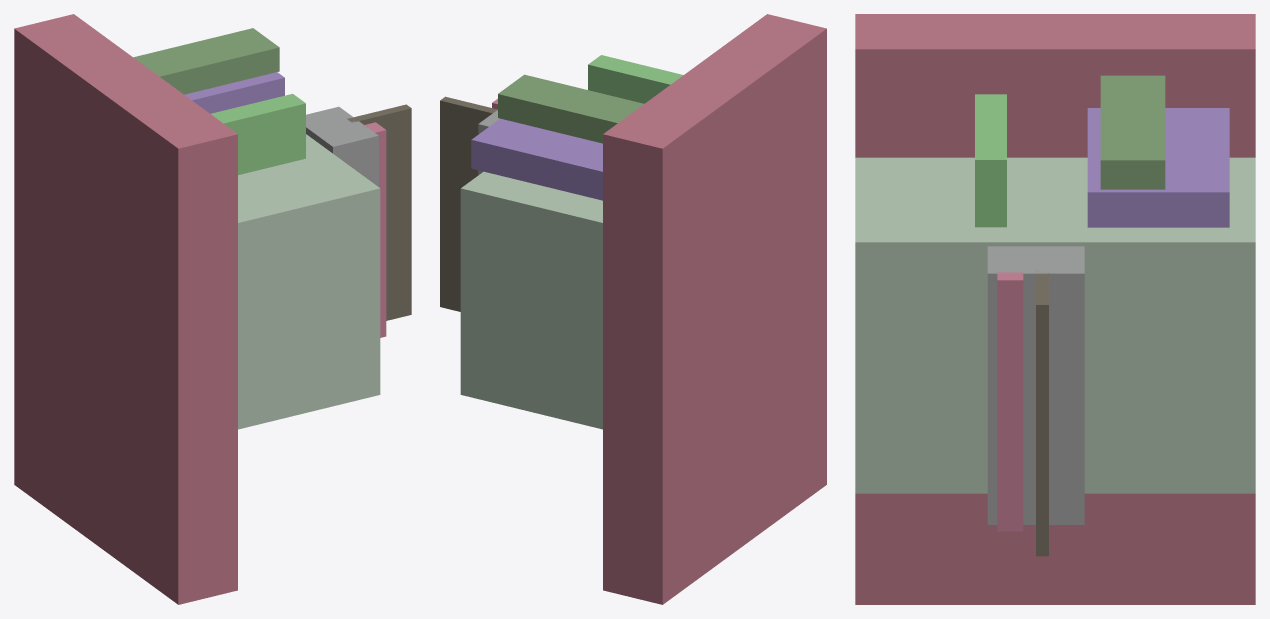
3 renders of one model, left to right at view 1: azimuth 30°, elevation 25°; view 2: azimuth 150°, elevation 25°; view 3: azimuth 270°, elevation 25°, orthographic. The views are drawn at different scales.
Parts seen in each view (by area): view 1: world; view 2: world; view 3: world.
Boxes of the visible parts, x1,y1,x2,y2 form: world: (14, 14, 411, 604); world: (440, 14, 826, 604); world: (855, 14, 1255, 604).
Bounding box in the file's own units: 6.7 × 9.5 × 6.2.
